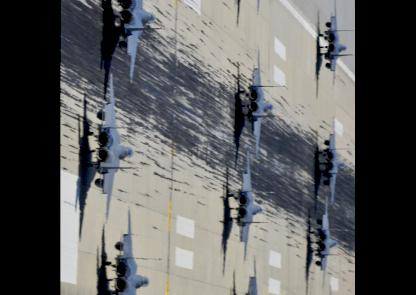F117: (85, 72, 144, 222), (228, 149, 276, 263), (101, 204, 162, 293), (240, 46, 284, 156), (111, 0, 168, 84), (309, 195, 348, 287), (317, 0, 356, 90), (318, 115, 355, 205), (233, 253, 282, 293), (238, 0, 288, 15)
